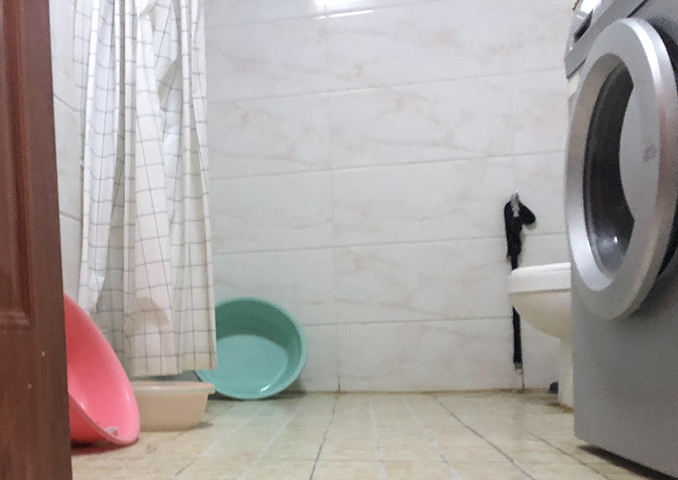closestool: (504, 261, 570, 413)
curtain: (68, 1, 218, 380)
